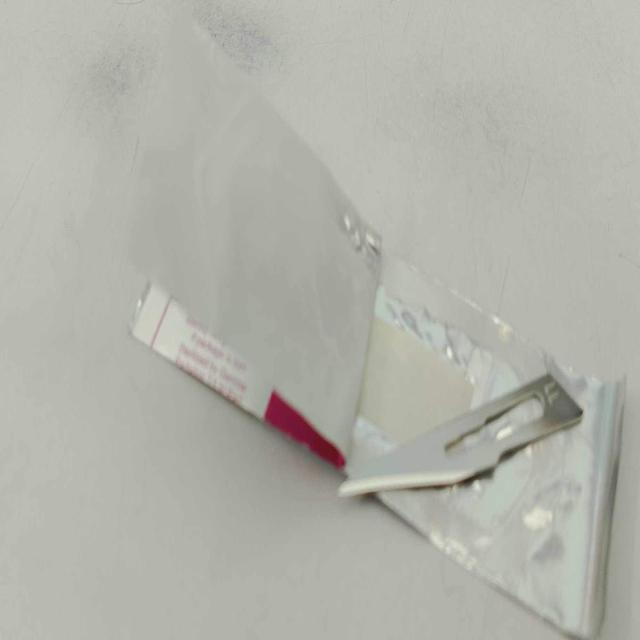Pathological: (338, 252, 626, 637)
Sharps: (128, 277, 346, 472), (337, 371, 584, 500)
